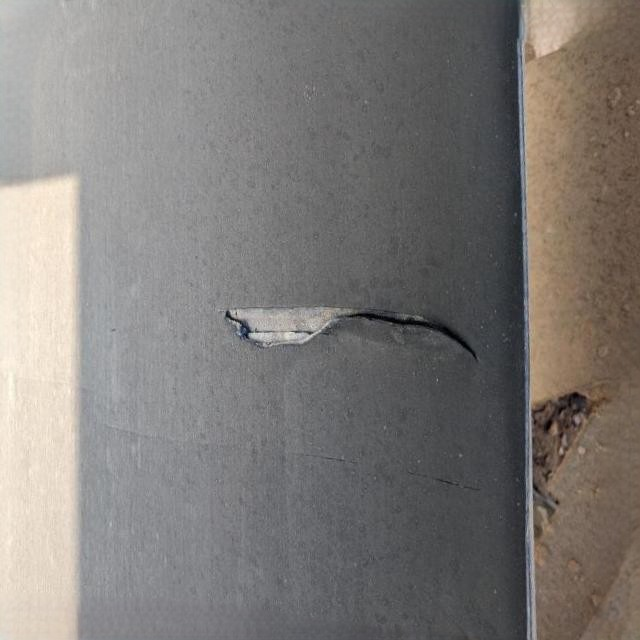Tear: (222, 302, 486, 370)
